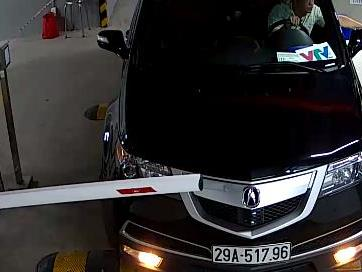number: (214, 243, 293, 265)
